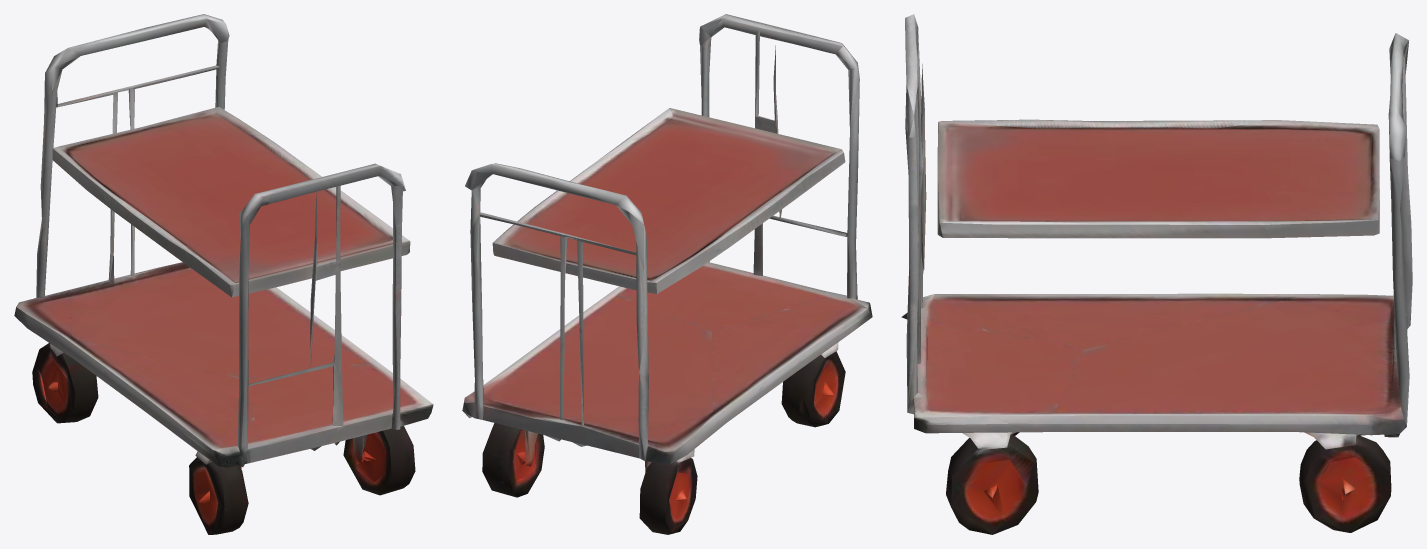
Rendered from stationTrolley.glb.
3 renders of one model, left to right at view 1: azimuth 30°, elevation 25°; view 2: azimuth 150°, elevation 25°; view 3: azimuth 270°, elevation 25°, orthographic. The views are drawn at different scales.
Visible parts, largest first — view 1: model; view 2: model; view 3: model.
Boxes of the visible parts, <box> form: model: <box>14,14,433,534</box>; model: <box>462,14,872,534</box>; model: <box>901,14,1412,534</box>.
Size of the model in its own units: 1.1 by 1.74 by 1.9.
Materials: 1 (1 with a texture image).
